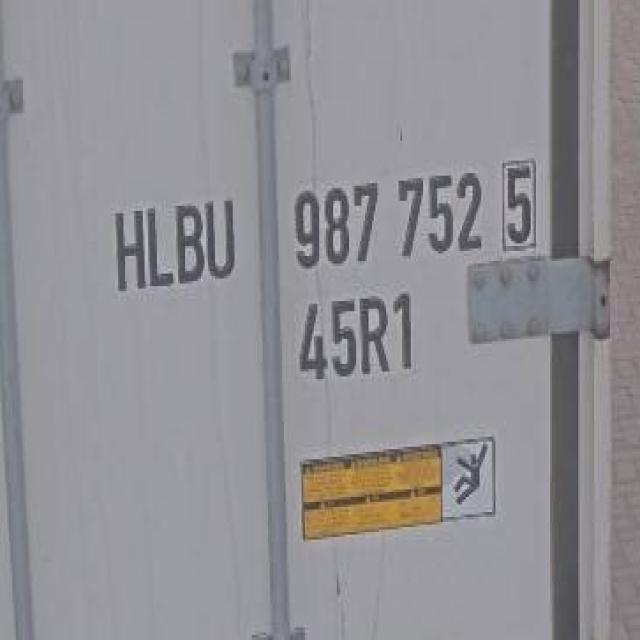dv: (496, 146, 542, 259)
owner: (102, 182, 244, 302)
serial: (280, 150, 485, 276)
size: (284, 283, 431, 393)
